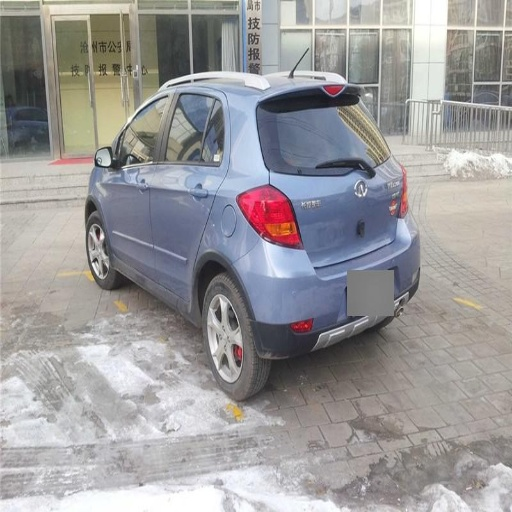back_bumper: (232, 227, 417, 354)
back_glass: (258, 92, 388, 173)
back_left_door: (151, 87, 226, 290)
tailgate: (289, 163, 392, 264)
trunk: (284, 173, 358, 208)
